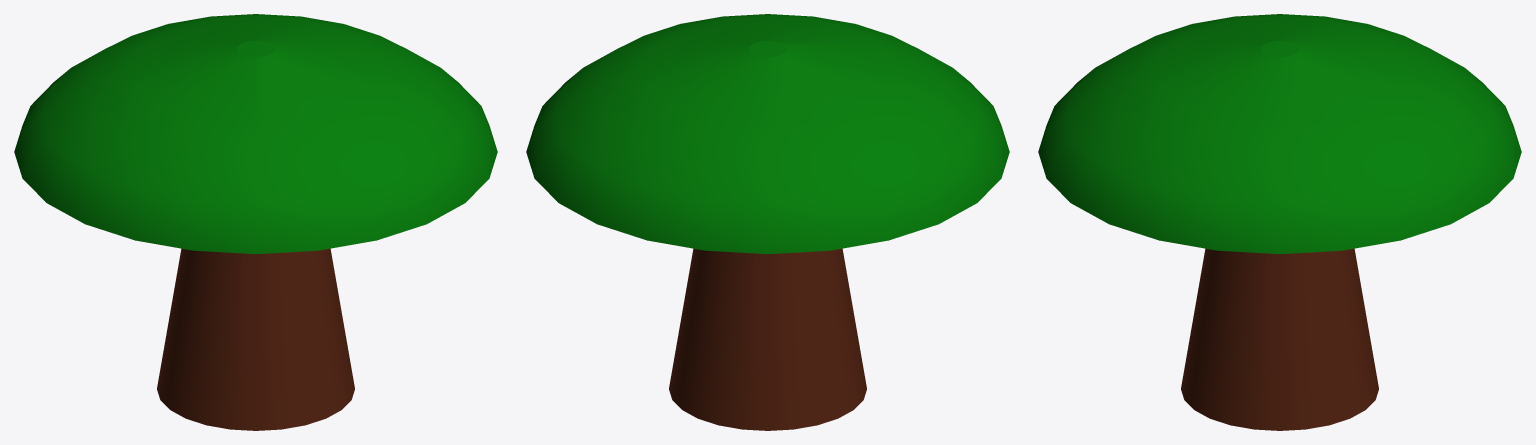
Rendered from TeemoShroomExport.FBX.
The picture shows the model from 3 angles, left to right: view 1: azimuth 30°, elevation 25°; view 2: azimuth 150°, elevation 25°; view 3: azimuth 270°, elevation 25°; orthographic projection.
Parts seen in each view (by area): view 1: Shroom; view 2: Shroom; view 3: Shroom.
Boxes of the visible parts, x1,y1,x2,y2 form: Shroom: (14,14,497,430); Shroom: (526,14,1009,430); Shroom: (1038,14,1521,430).
Size of the model in its own units: 24.18 by 18.78 by 24.18.
